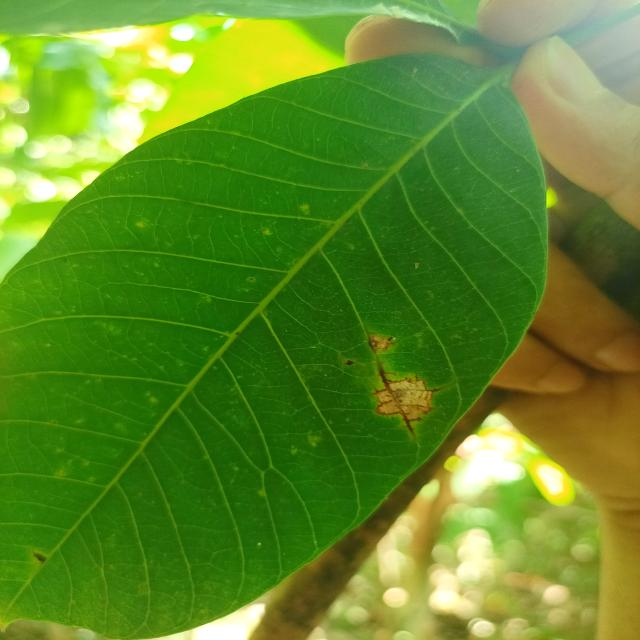Corynespora: (376, 361, 395, 390), (401, 413, 420, 436)
Leaf-Blight: (376, 378, 433, 420), (368, 335, 391, 351)
